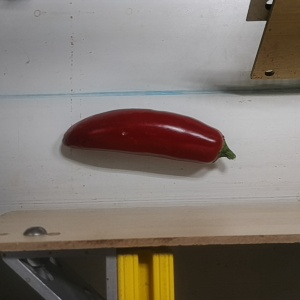Cut Point: (207, 127, 235, 166)
